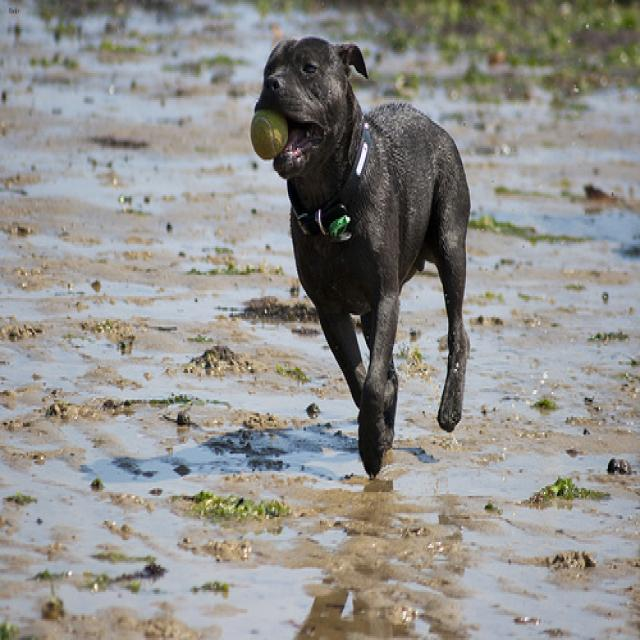dog-staffordshire_bull_terrier: (250, 29, 476, 486)
